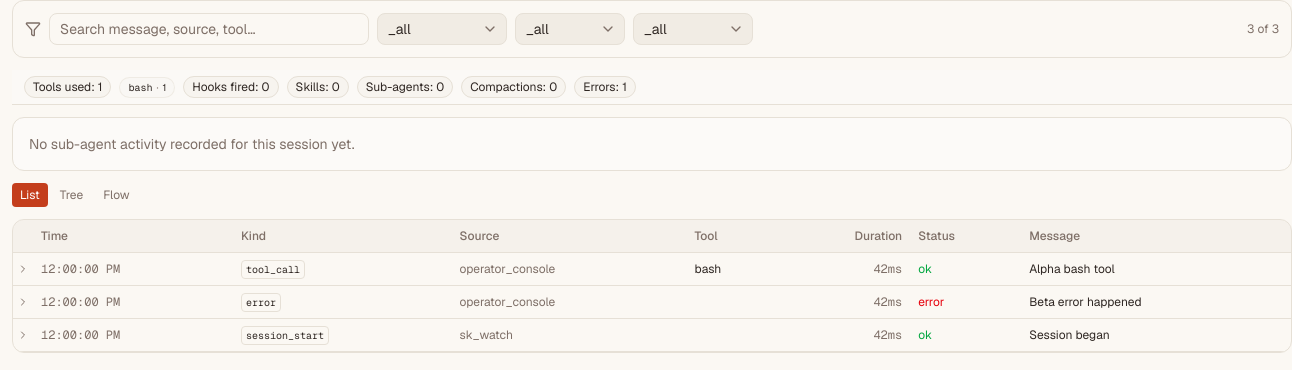
Scenario: DebugLogTab – filter behavior › text filter reduces visible rows (substring match, no regex)
Type "bash" into the field named "filter by text" at (209, 29), box [49,13,369,45]
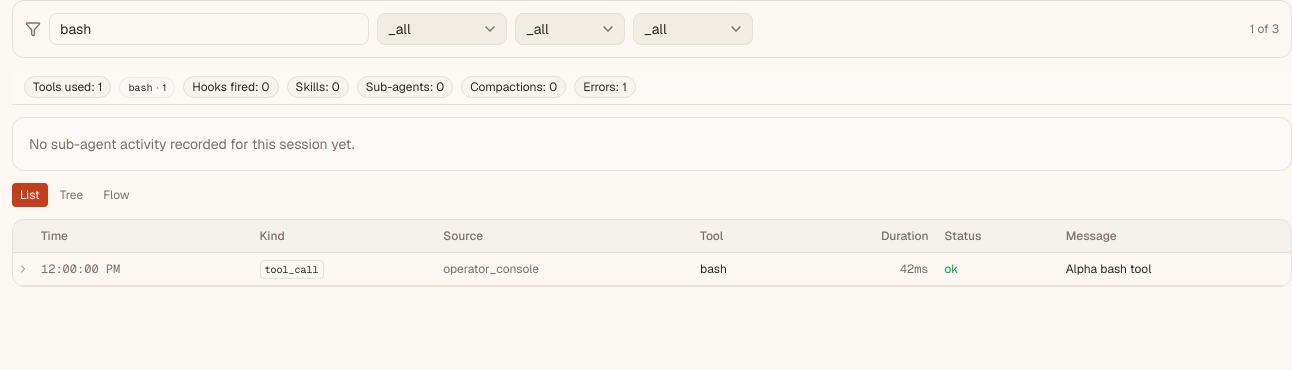
Expected: the text "Alpha bash tool" is shown, [1066,261,1151,277]
Expected: the text "Beta error happened" is gone
Expected: the text "Session began" is gone
